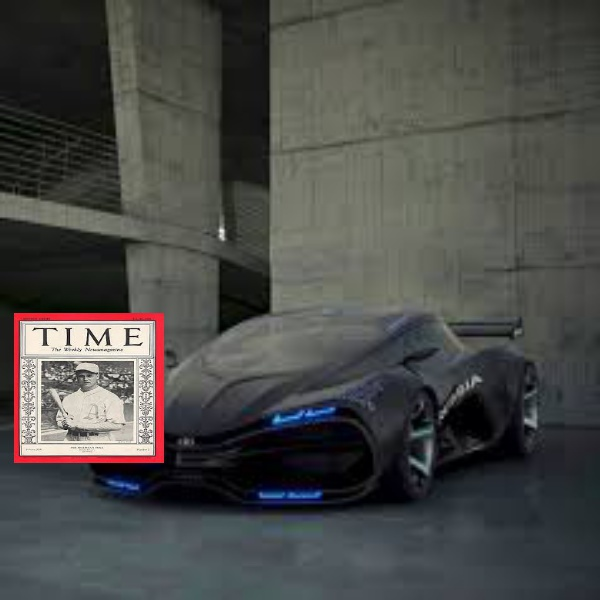time_cover: (5, 298, 168, 469)
